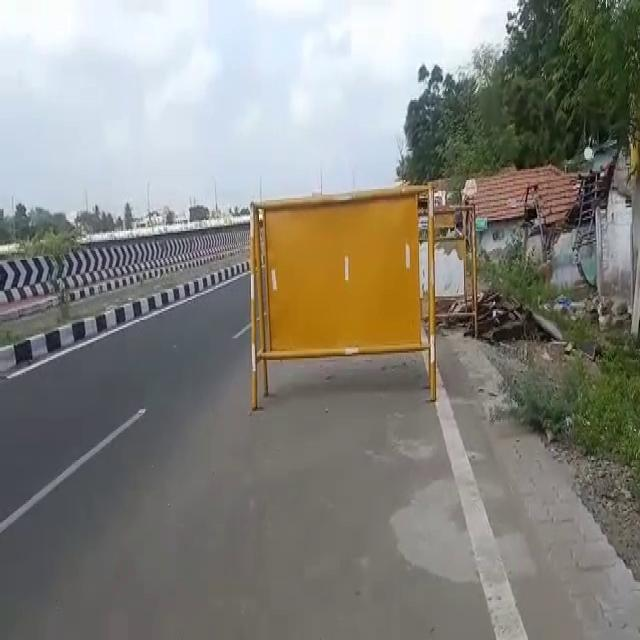fallen_object: (220, 173, 476, 421)
